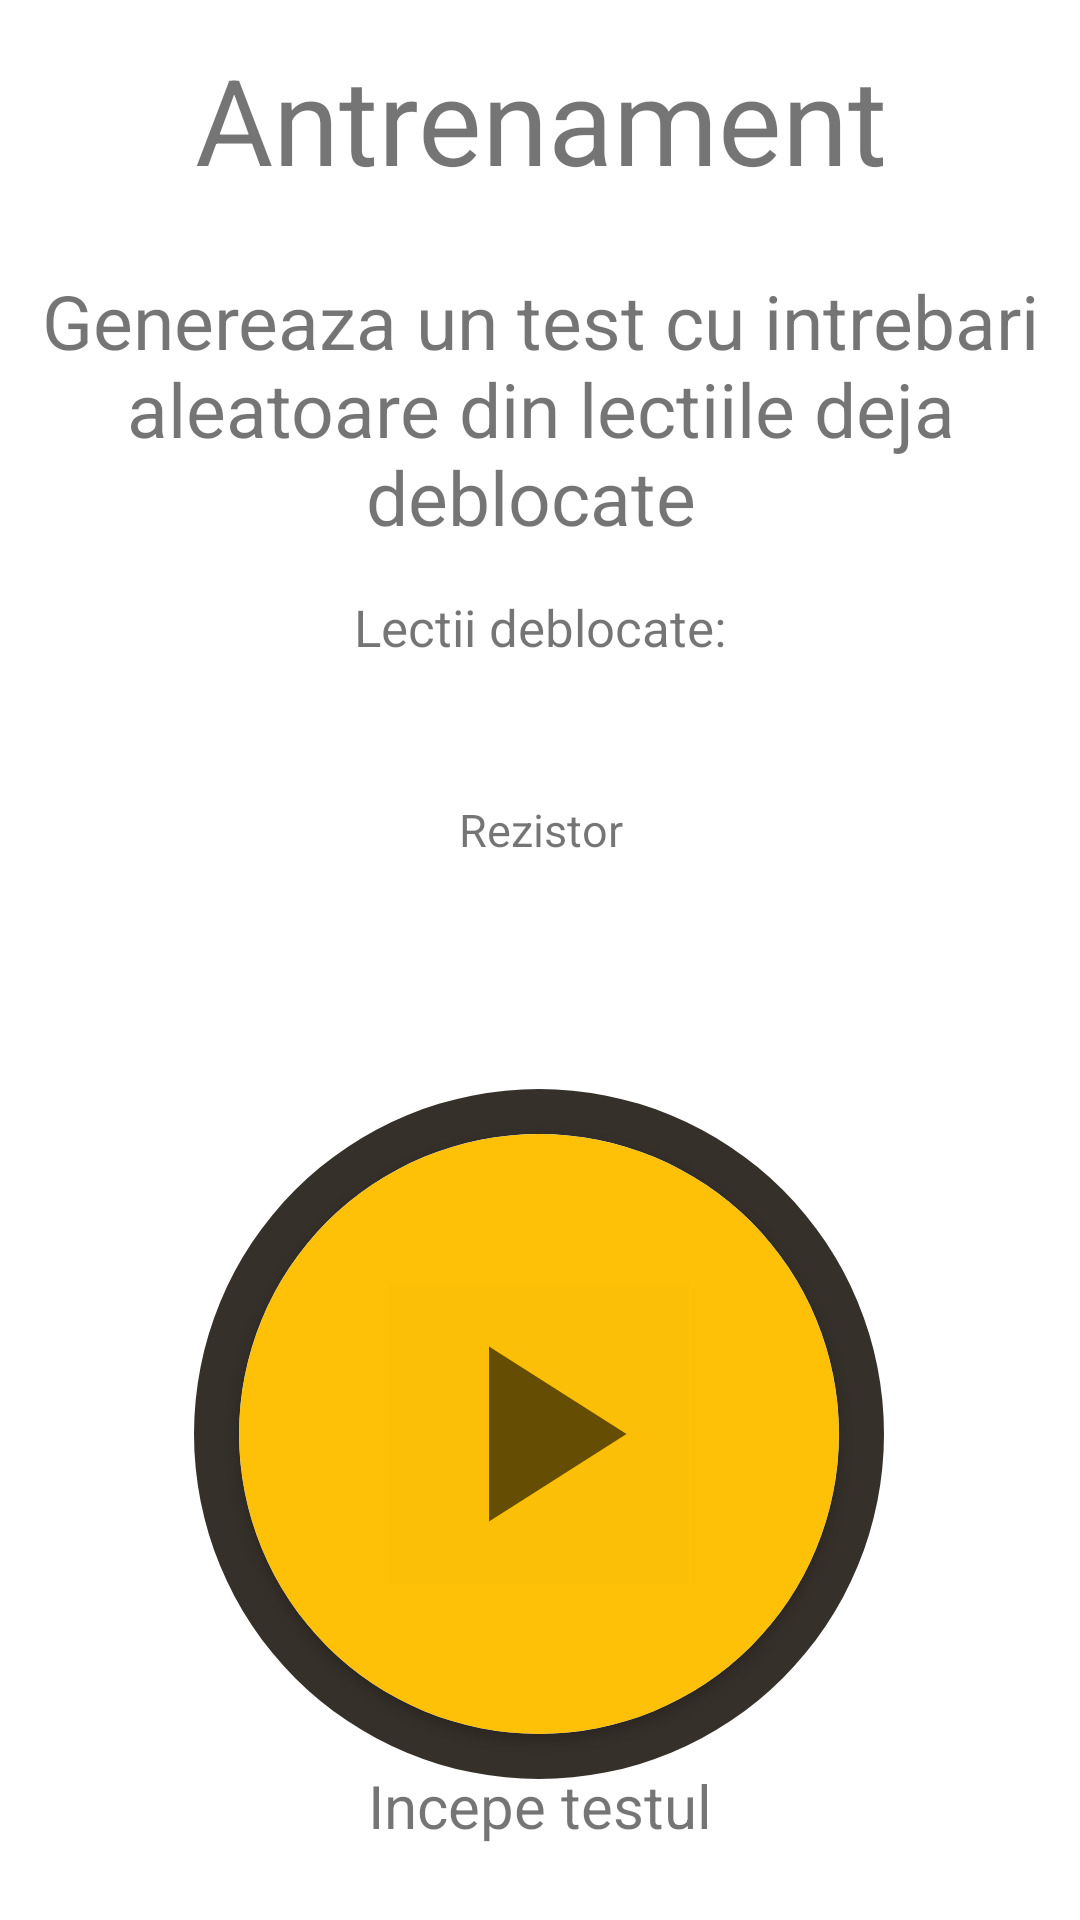

Point at icon controls on the screen. Image size 1080×1920, points as (x=x, y=y).
play arrow: (x=557, y=1434)
